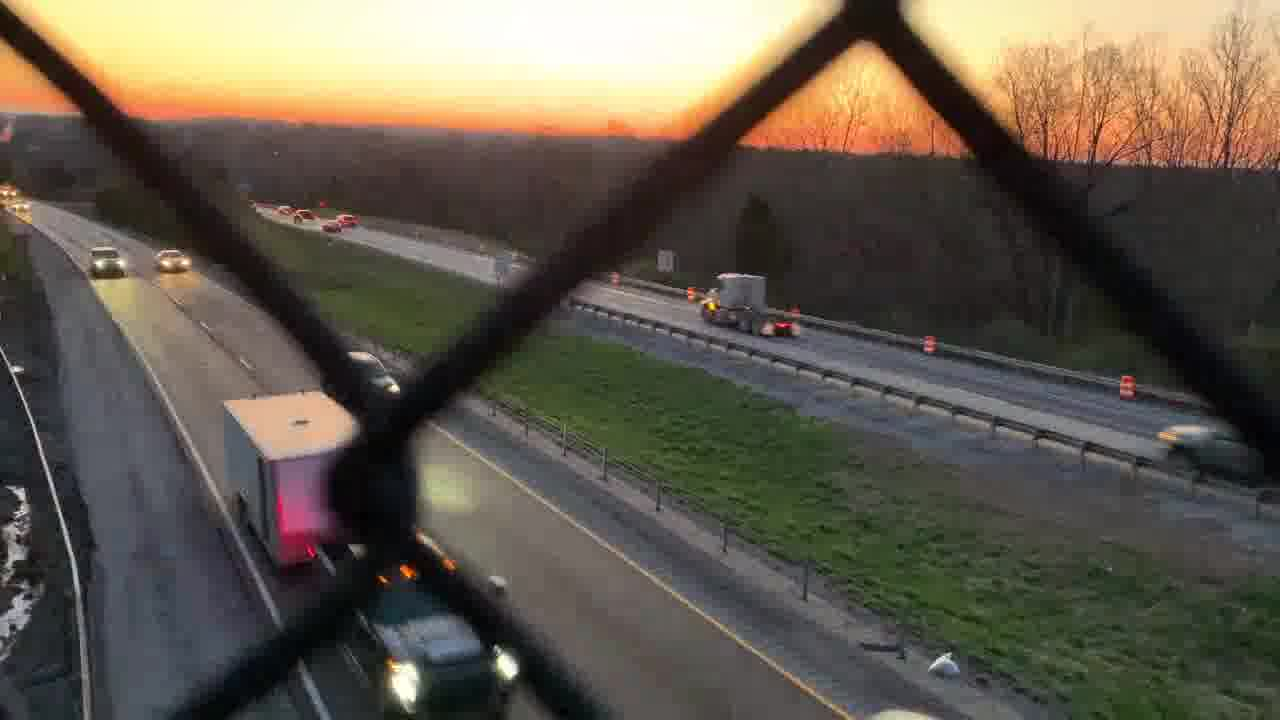heavyTruck: (698, 265, 802, 341)
largeCar: (83, 247, 132, 276)
lightTruck: (219, 389, 525, 703)
smallCar: (152, 248, 192, 272)
